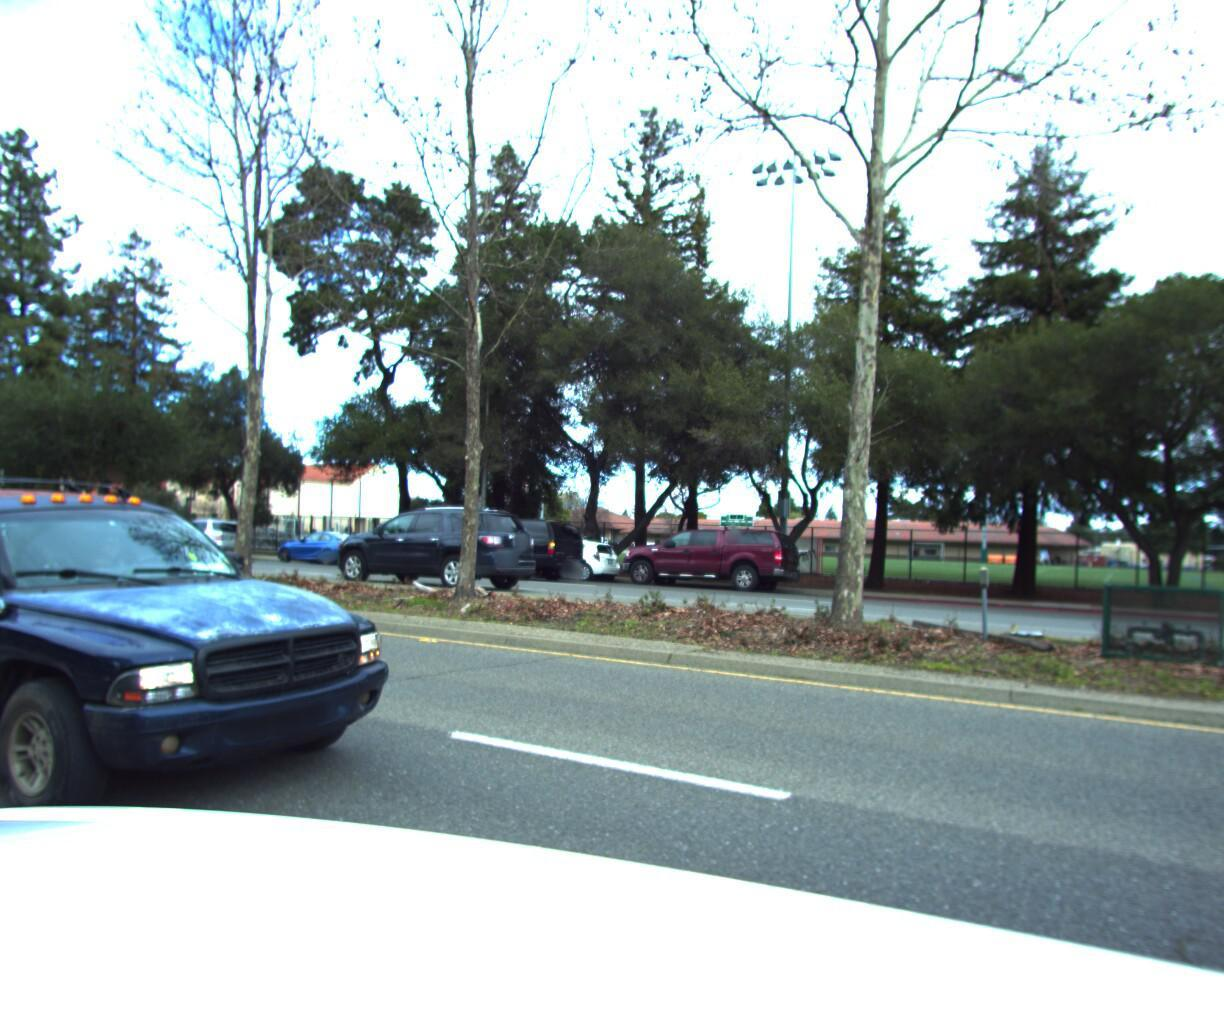car: (0, 443, 425, 878), (312, 499, 543, 595), (610, 519, 806, 593), (417, 510, 590, 579), (497, 530, 624, 579), (152, 513, 254, 556), (268, 524, 375, 564)
